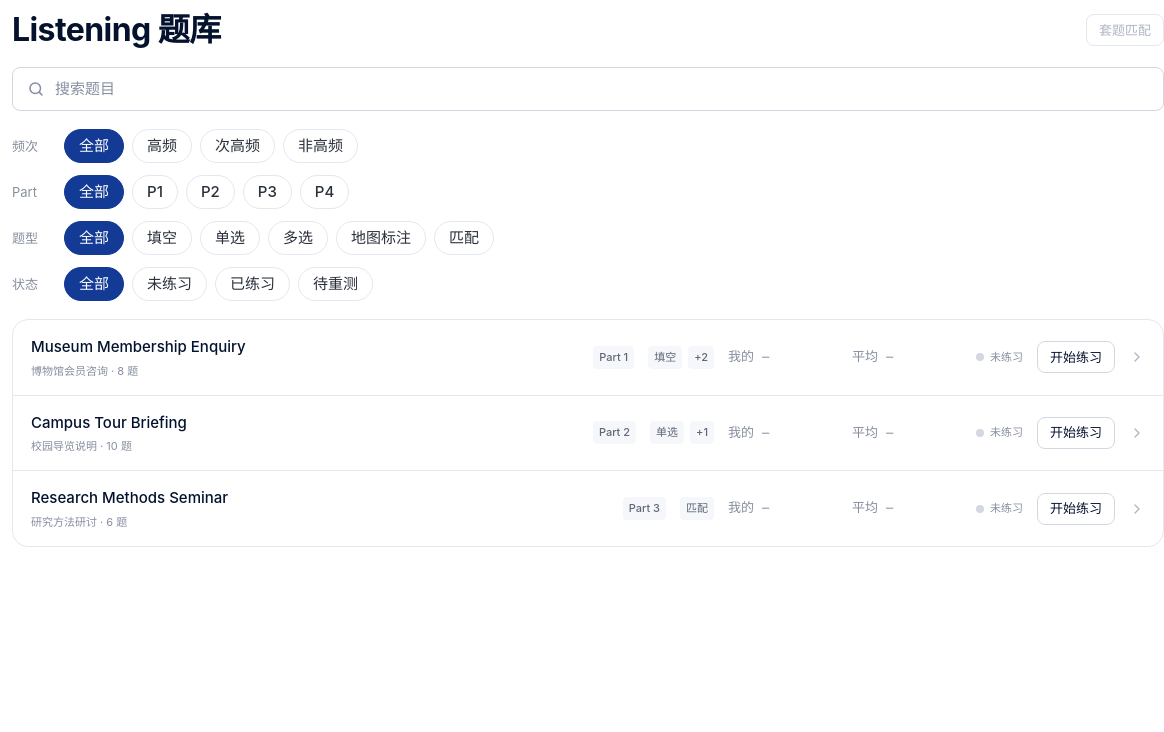
Test: ListeningLibrary › a chip and a search compose with AND
The width and height of the screenshot is (1164, 732).
# 高频 alone: the museum set and the seminar.
Click the button "高频": x=162, y=146 [132,129,192,163]
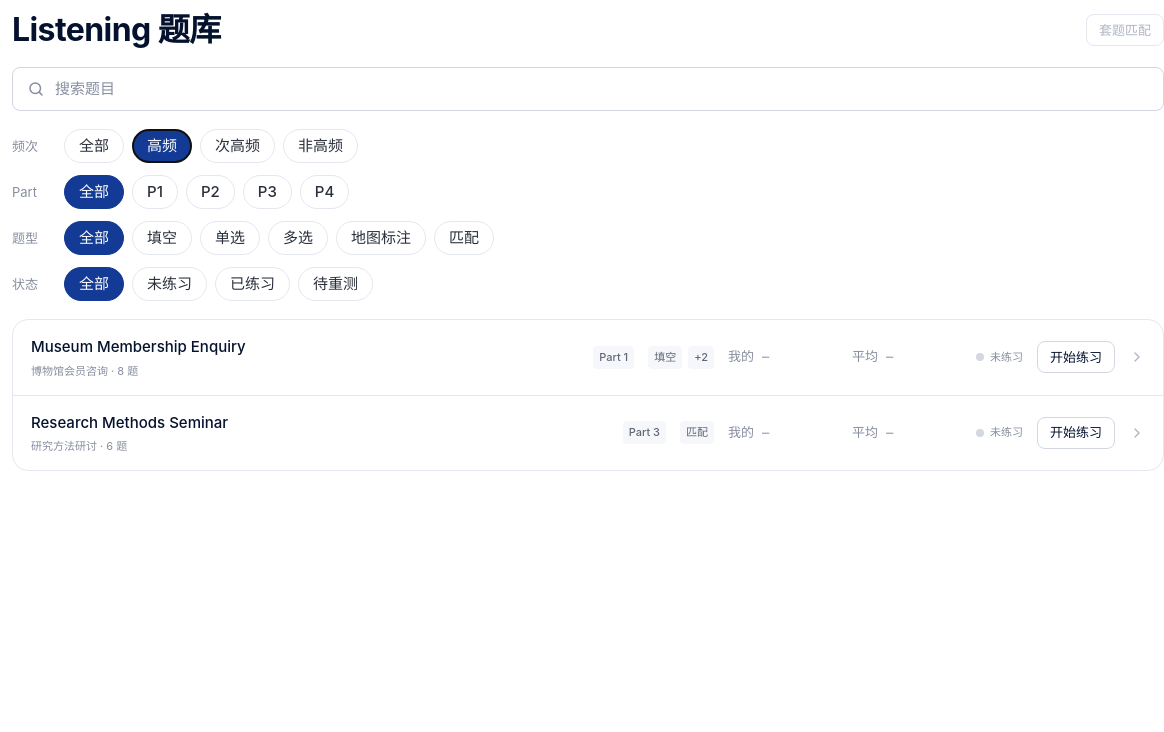
Click the button "匹配": x=464, y=238 [434,221,494,255]
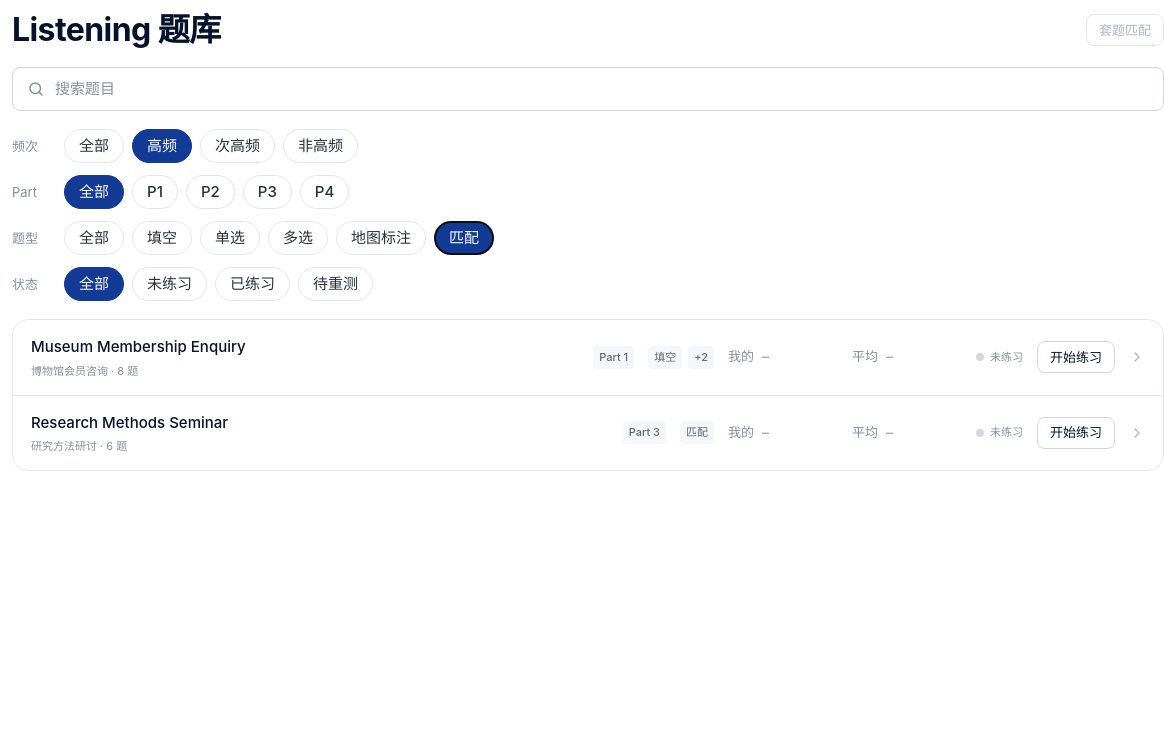
In the search field labelled "搜索题目": x=602, y=89 [55,76,1149,102], type "seminar"
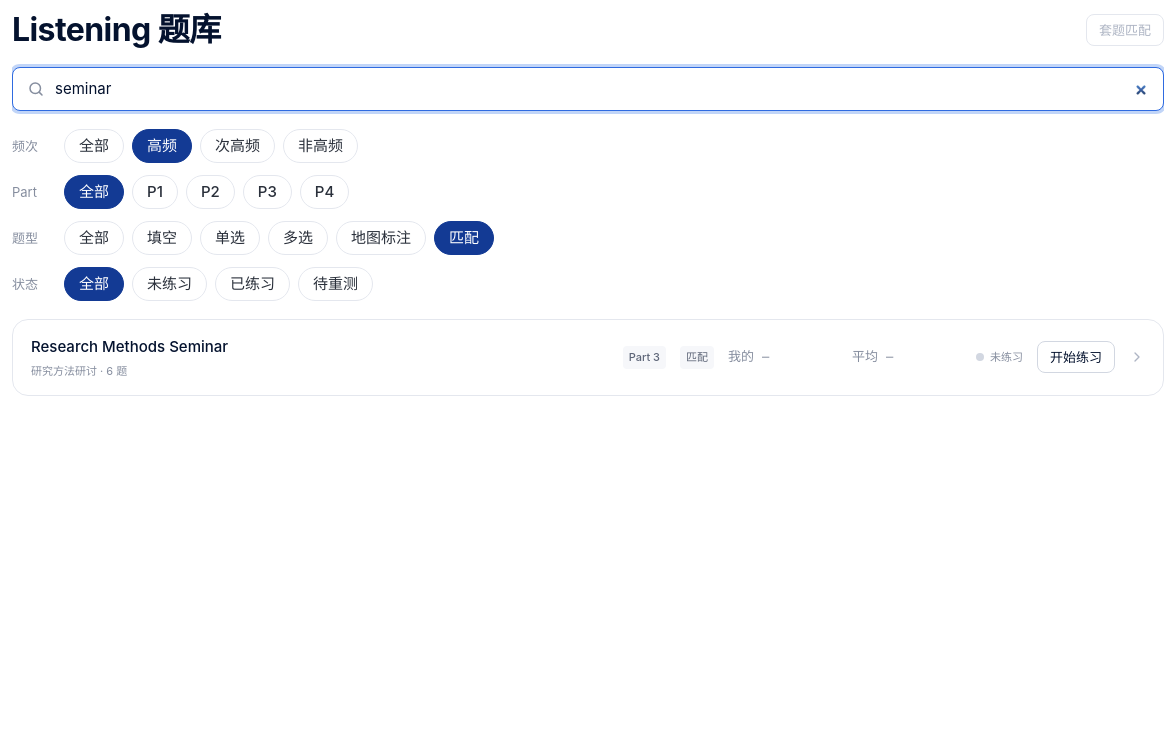
# And an AND that excludes everything is an empty list, not the union.
Click the button "P2": x=210, y=192 [186,175,235,209]
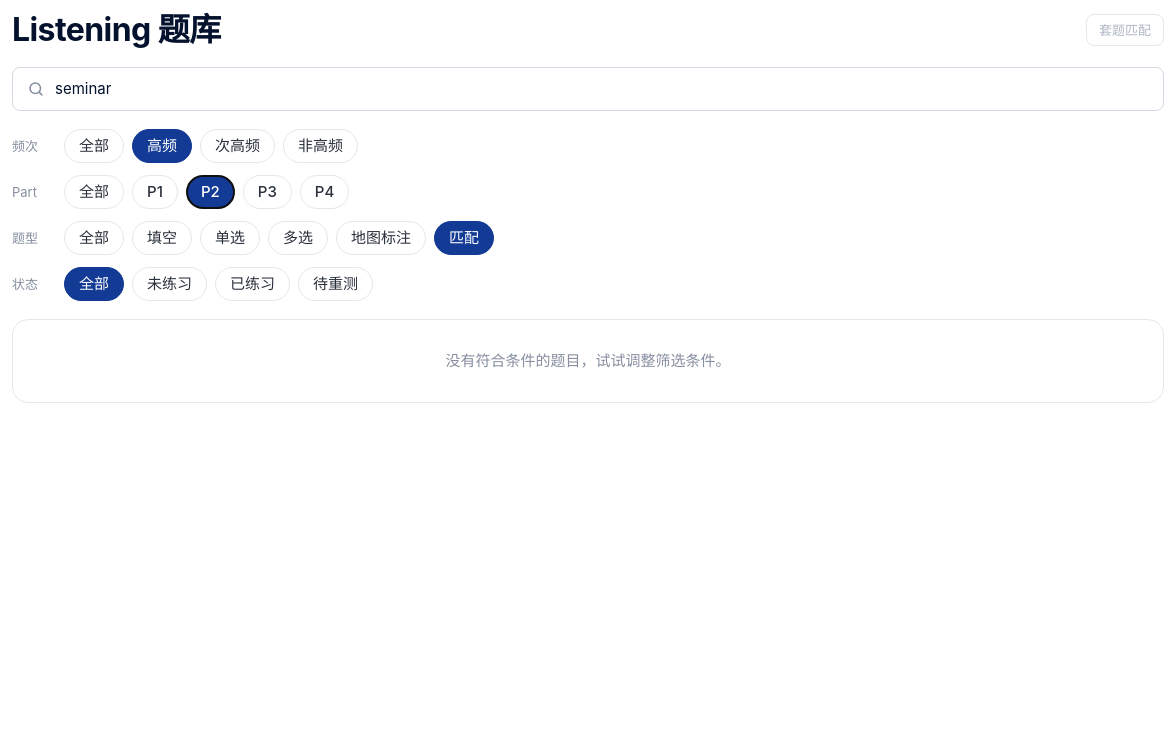
Expected: no list items are shown
Expected: the text "没有符合条件的题目，试试调整筛选条件。" is shown, [446,351,730,370]
